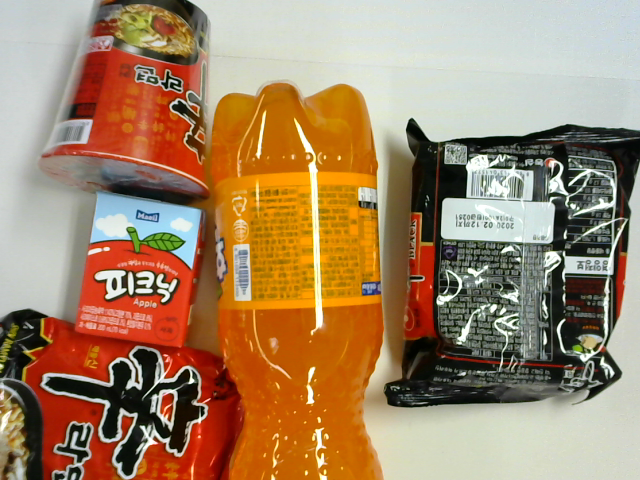Hwanta_Orange_1.5L: (213, 82, 381, 480)
Picnic_Apple: (75, 191, 204, 346)
Sinramen: (1, 309, 243, 480)
Sinramen_Black: (383, 118, 640, 409)
Sinramen_small: (34, 1, 213, 205)
